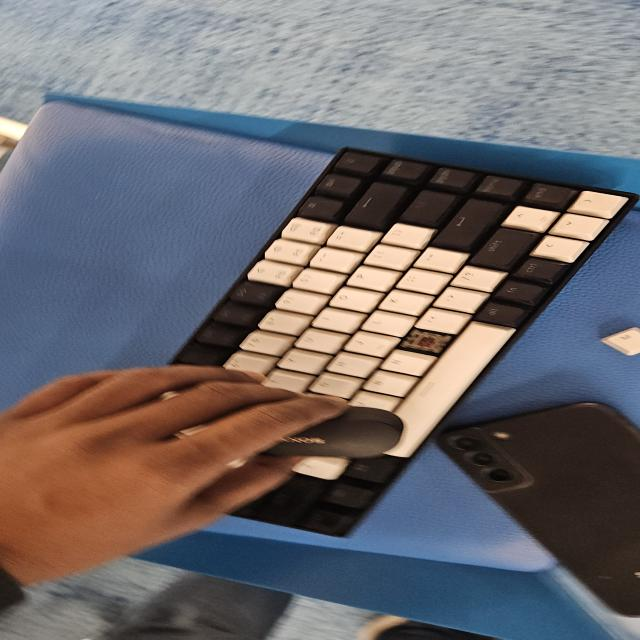C: (412, 334, 434, 350)
